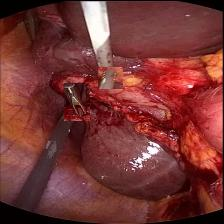Grasper: (64, 82, 90, 120)
Irrigator: (98, 66, 123, 88)
